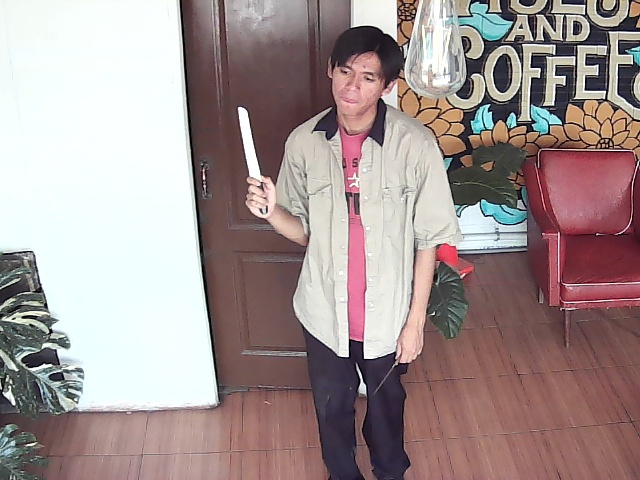cuchillo: (232, 105, 273, 217)
